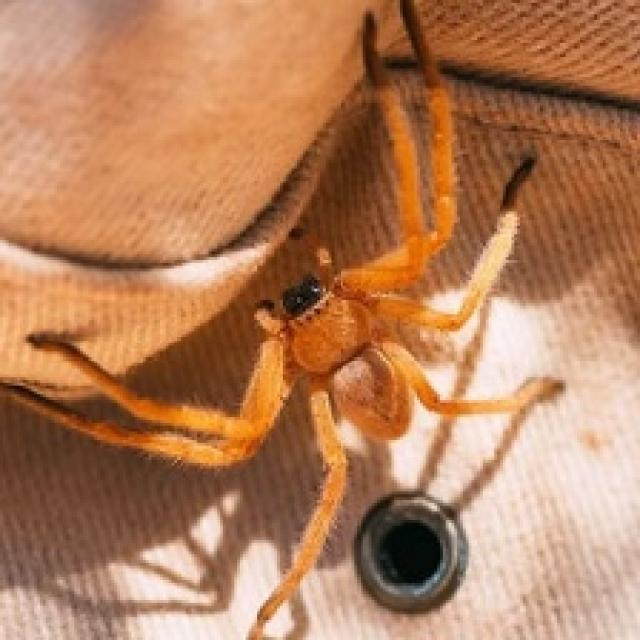Non venomous spider: (31, 113, 581, 557)
